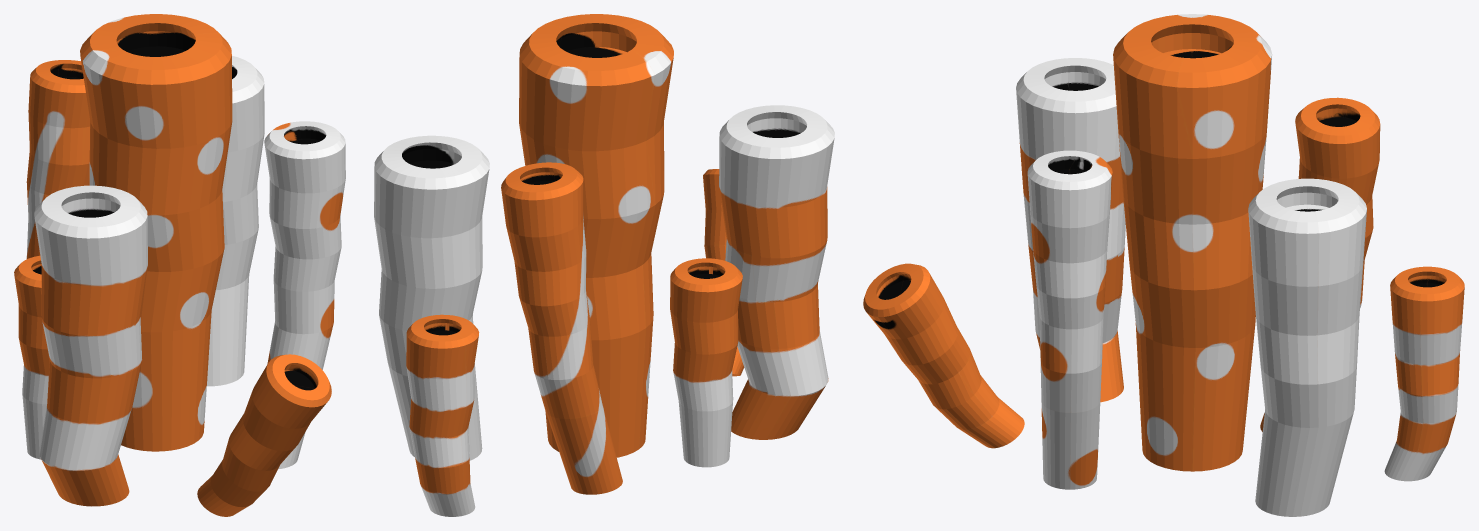
The model's file is coral-nemo.fbx.
3 renders of one model, left to right at view 1: azimuth 30°, elevation 25°; view 2: azimuth 150°, elevation 25°; view 3: azimuth 270°, elevation 25°, orthographic. The views are drawn at different scales.
Parts seen in each view (by area): view 1: node_id4; view 2: node_id4; view 3: node_id4.
Part boxes in pixels (x1,y1,x2,y2): node_id4: (14,14,345,516); node_id4: (374,14,834,516); node_id4: (863,14,1464,516).
Size of the model in its own units: 0.4408 by 0.512 by 0.6714.
Materials: 1 (1 with a texture image).
